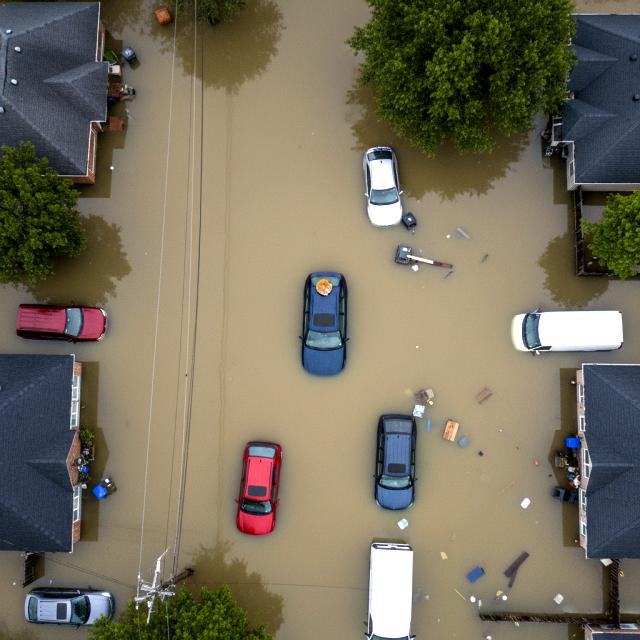cat: (312, 275, 338, 304)
